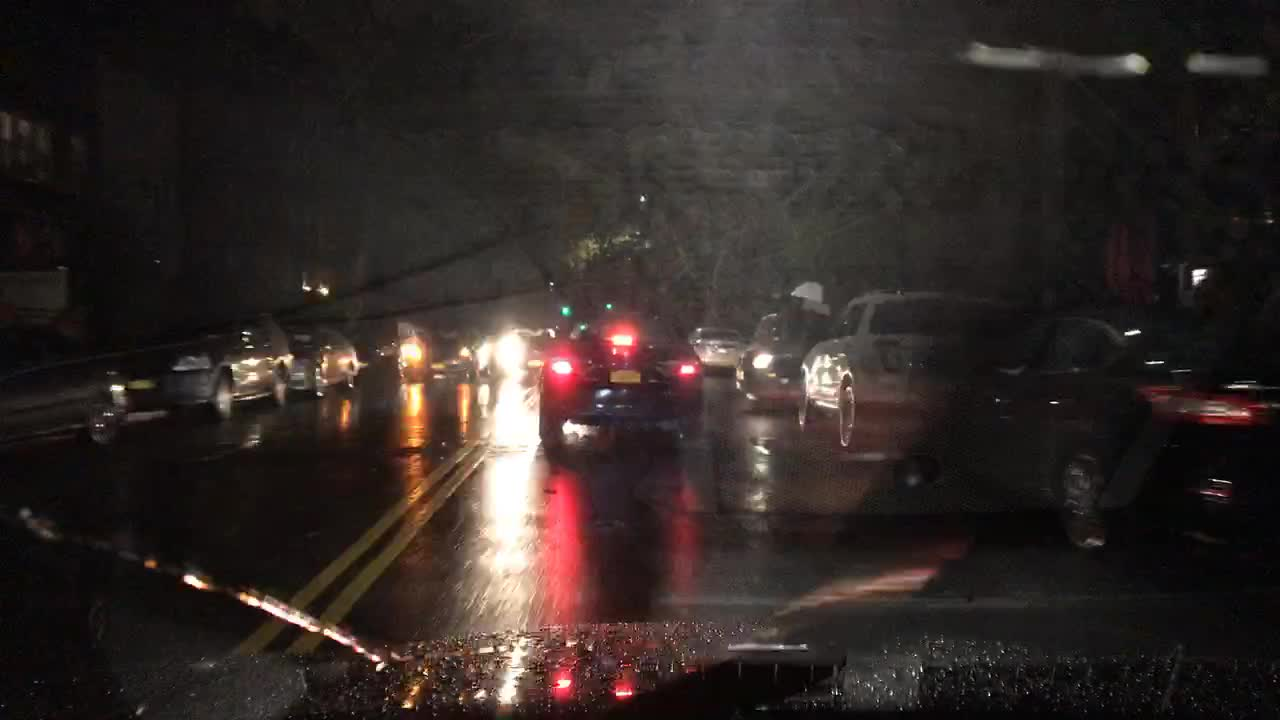car: (894, 297, 1277, 550), (793, 282, 998, 457), (534, 313, 707, 455), (115, 303, 297, 416), (0, 322, 135, 455), (727, 284, 842, 411), (276, 316, 359, 397), (399, 323, 490, 381), (337, 313, 411, 377), (488, 326, 556, 375), (683, 321, 744, 372)
traffic light: (559, 303, 568, 316), (607, 300, 612, 313)
